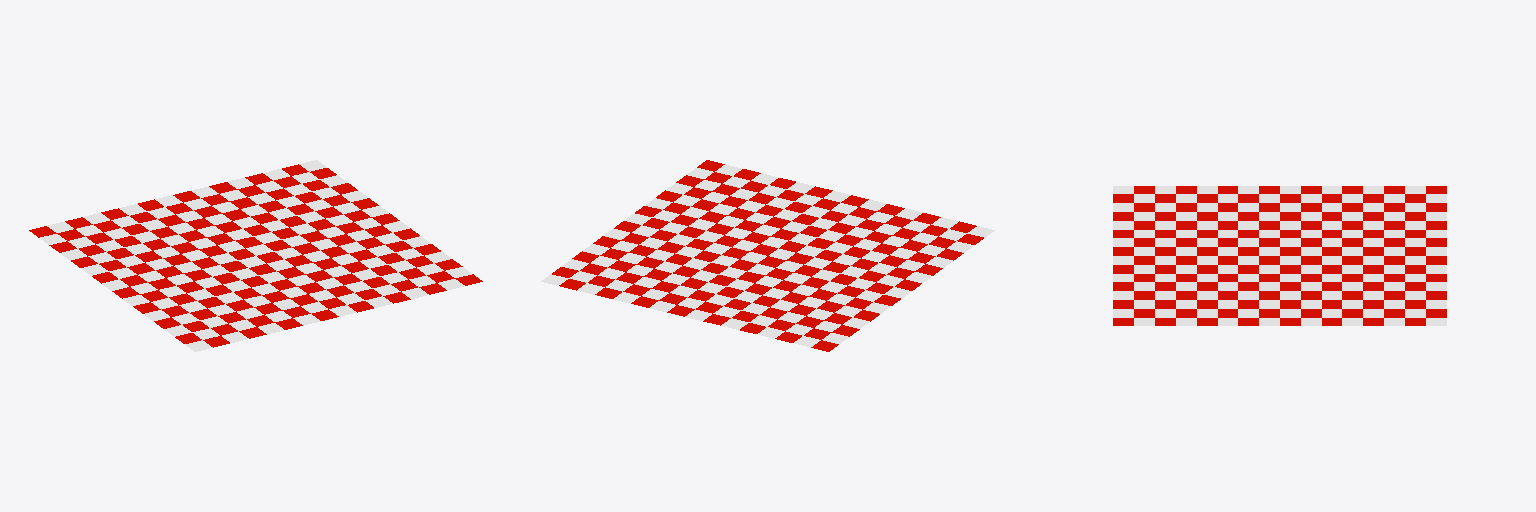
3 views of the same model, side by side, from view 1: azimuth 30°, elevation 25°; view 2: azimuth 150°, elevation 25°; view 3: azimuth 270°, elevation 25° (orthographic).
Parts seen in each view (by area): view 1: plane; view 2: plane; view 3: plane.
Boxes of the visible parts, <box> form: plane: <box>29,160,482,351</box>; plane: <box>541,160,994,351</box>; plane: <box>1113,186,1446,325</box>.
Size of the model in its own units: 1 by 0 by 1.
1 materials, 1 textured.